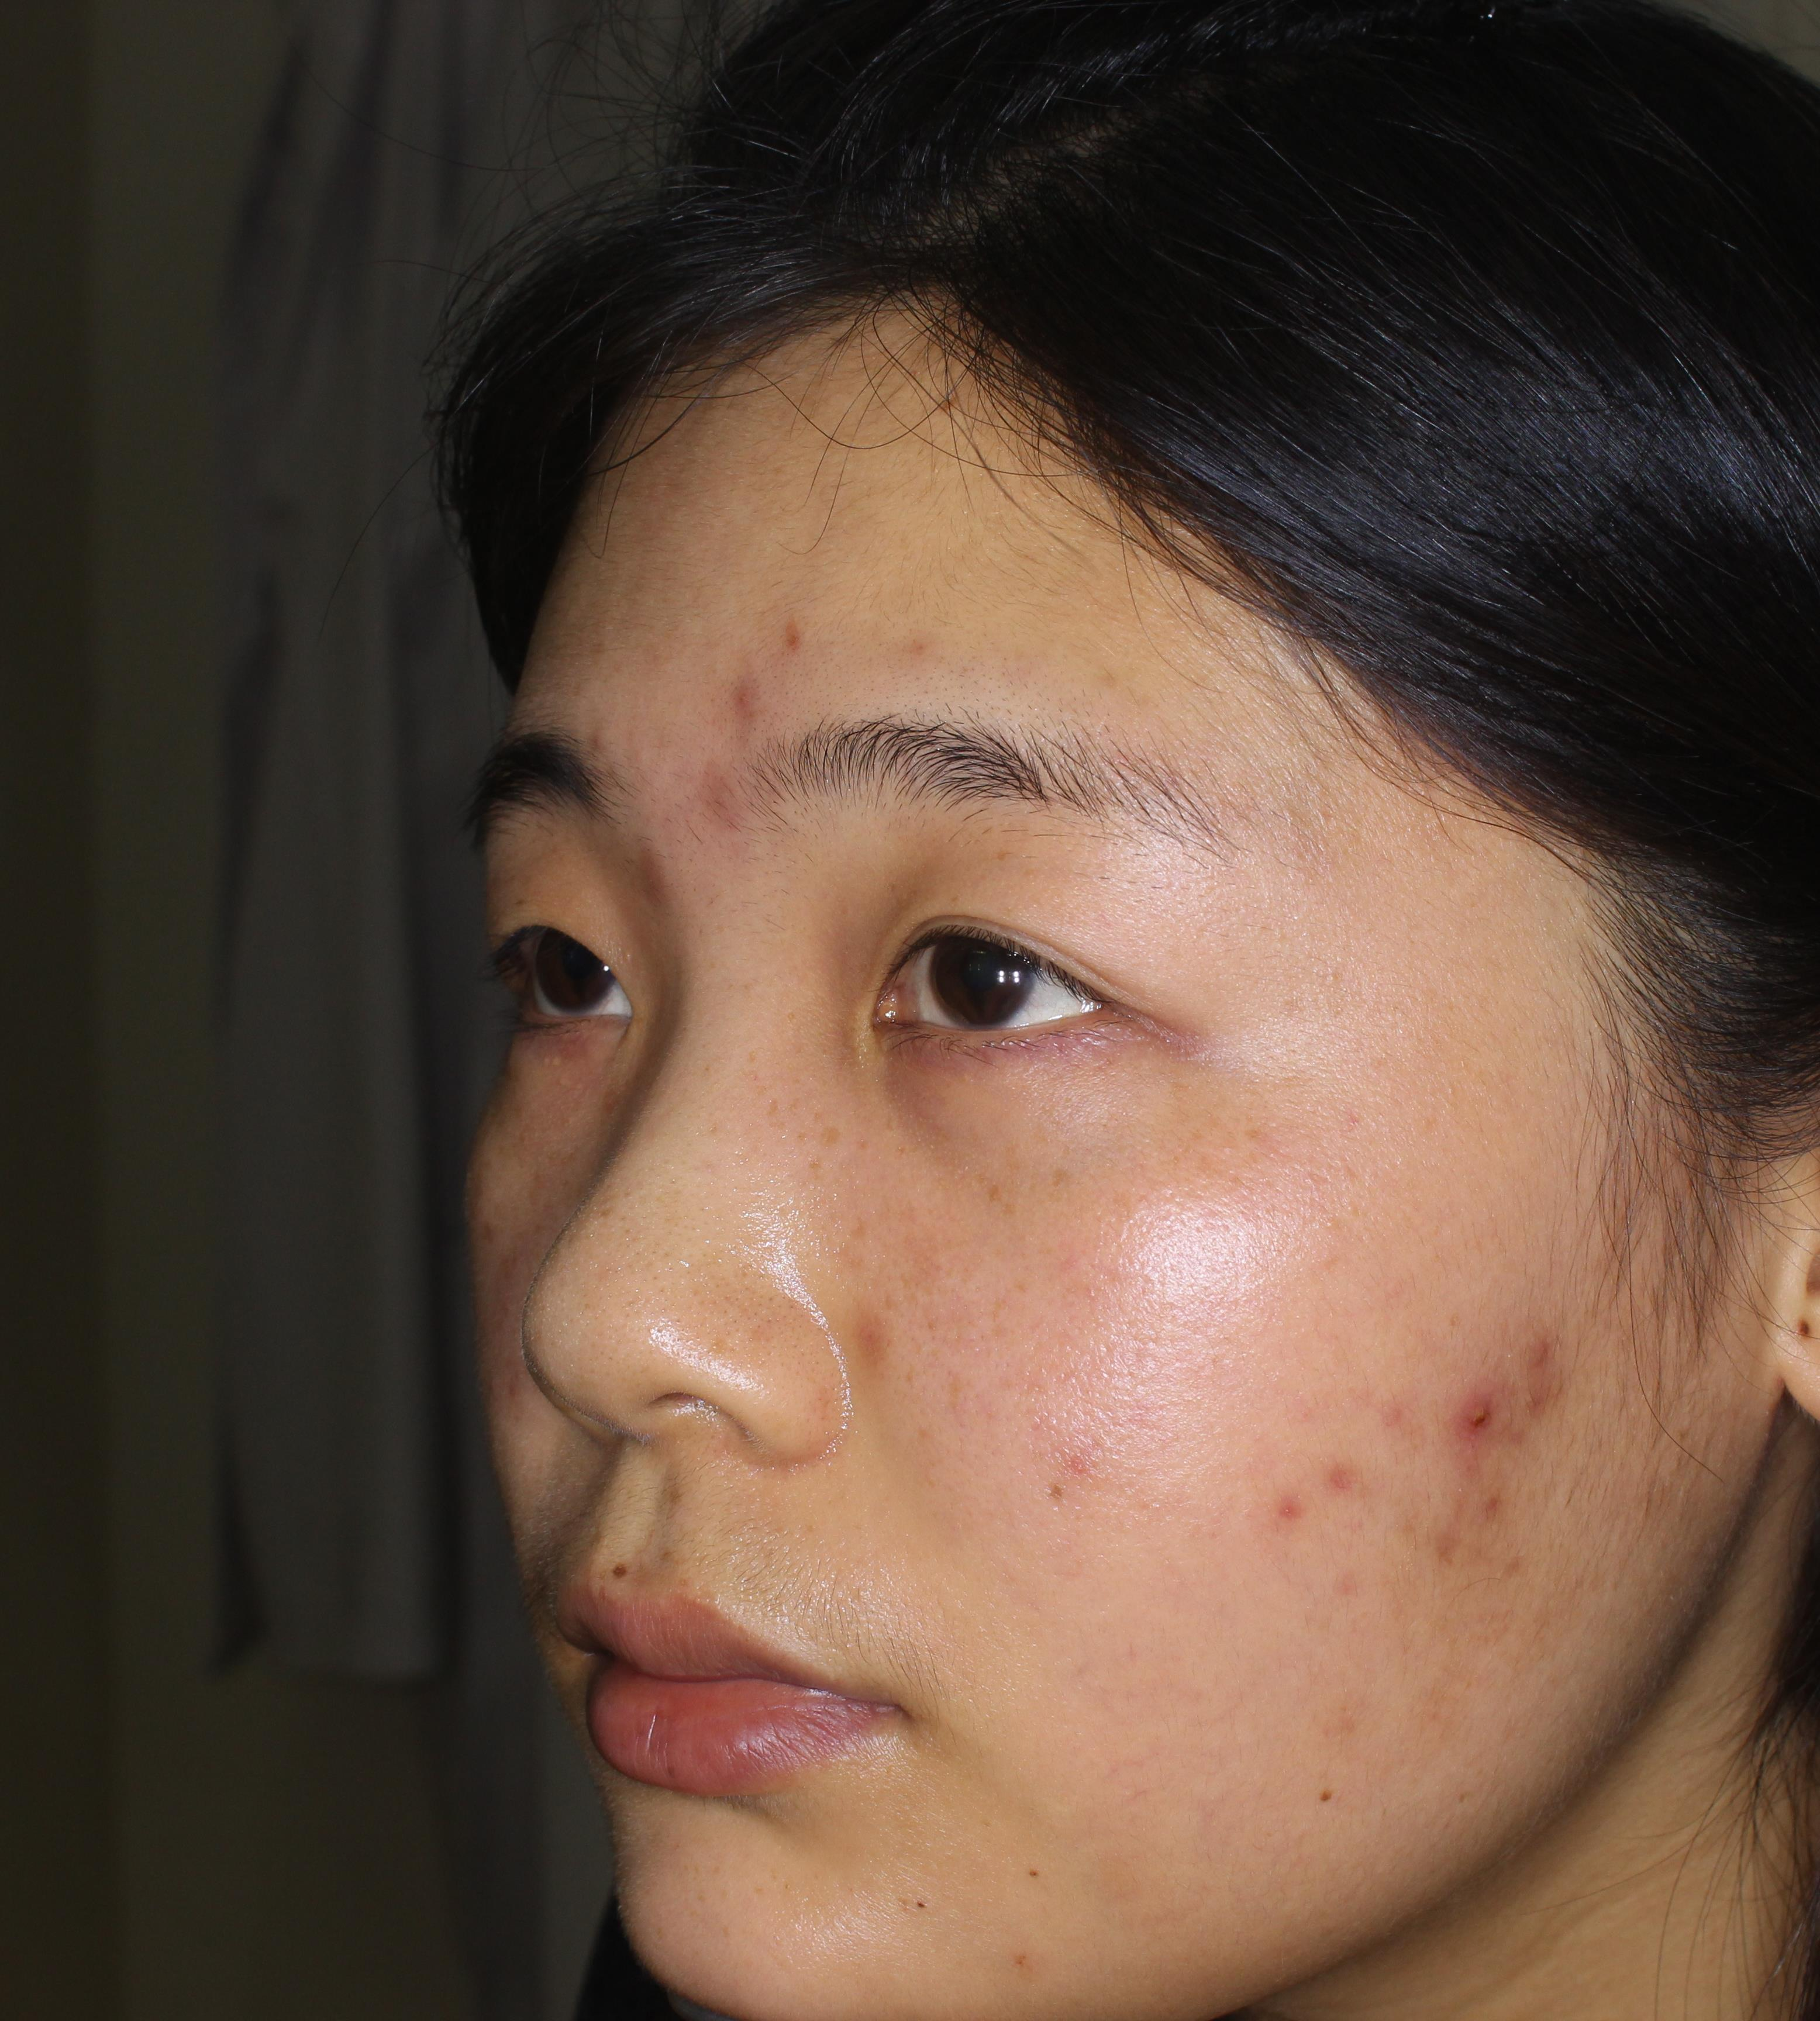fore: (1418, 1500, 1530, 1586), (678, 752, 754, 841), (1493, 1285, 1565, 1375), (699, 662, 780, 737), (620, 838, 678, 931), (1319, 1424, 1372, 1517), (750, 608, 840, 662), (1265, 1473, 1319, 1554), (1462, 1378, 1507, 1464), (1507, 1370, 1562, 1424)
